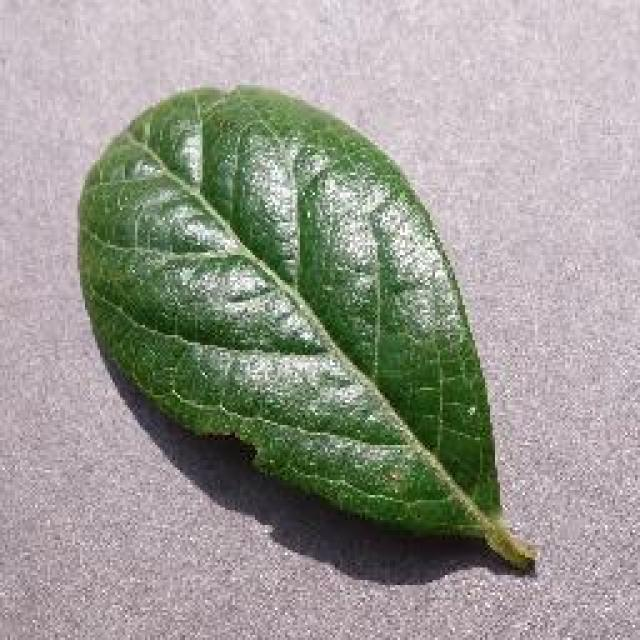Blu_healthy: (117, 108, 455, 474)
